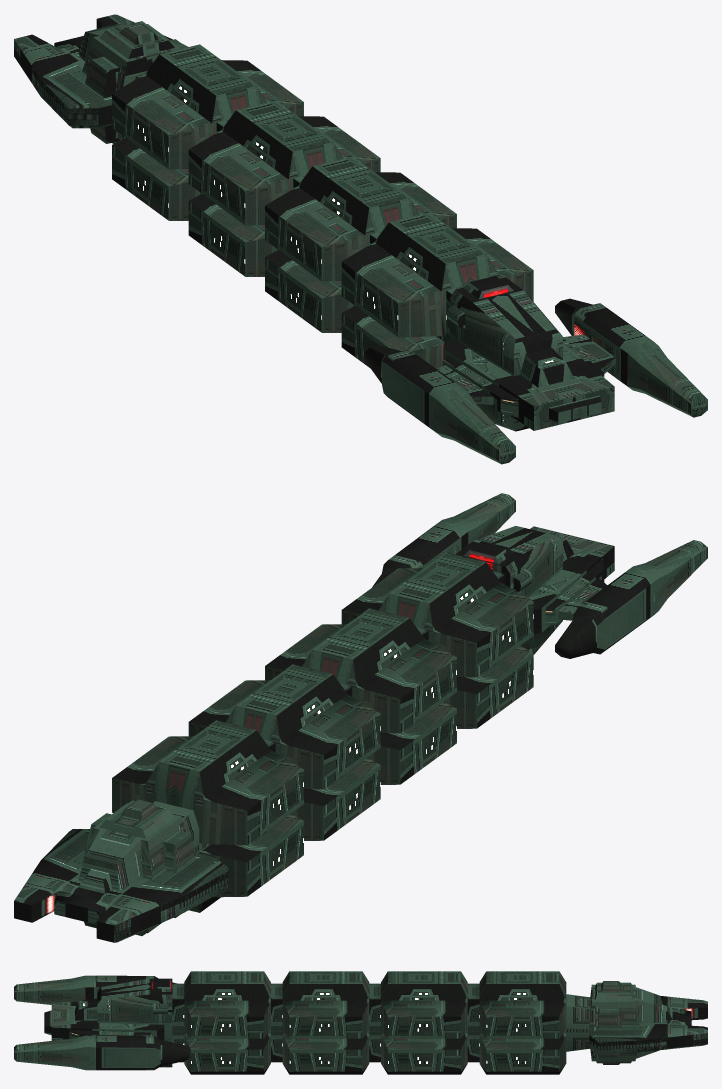
The model's file is Kling_JoHwl.fbx.
3 renders of one model, top to bottom at view 1: azimuth 30°, elevation 25°; view 2: azimuth 150°, elevation 25°; view 3: azimuth 270°, elevation 25°, orthographic. The views are drawn at different scales.
Parts seen in each view (by area): view 1: Kling_JoHwl; view 2: Kling_JoHwl; view 3: Kling_JoHwl.
Part boxes in pixels (x1,y1,x2,y2): Kling_JoHwl: (14, 14, 707, 464); Kling_JoHwl: (14, 493, 707, 942); Kling_JoHwl: (14, 971, 707, 1074).
Bounding box in the file's own units: 125 × 76 × 526.
Materials: 1 (1 with a texture image).
